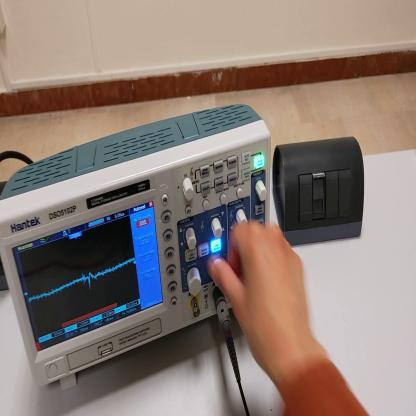hand: (211, 219, 315, 379)
oscilloscope: (1, 102, 273, 393)
socket: (1, 258, 10, 295)
